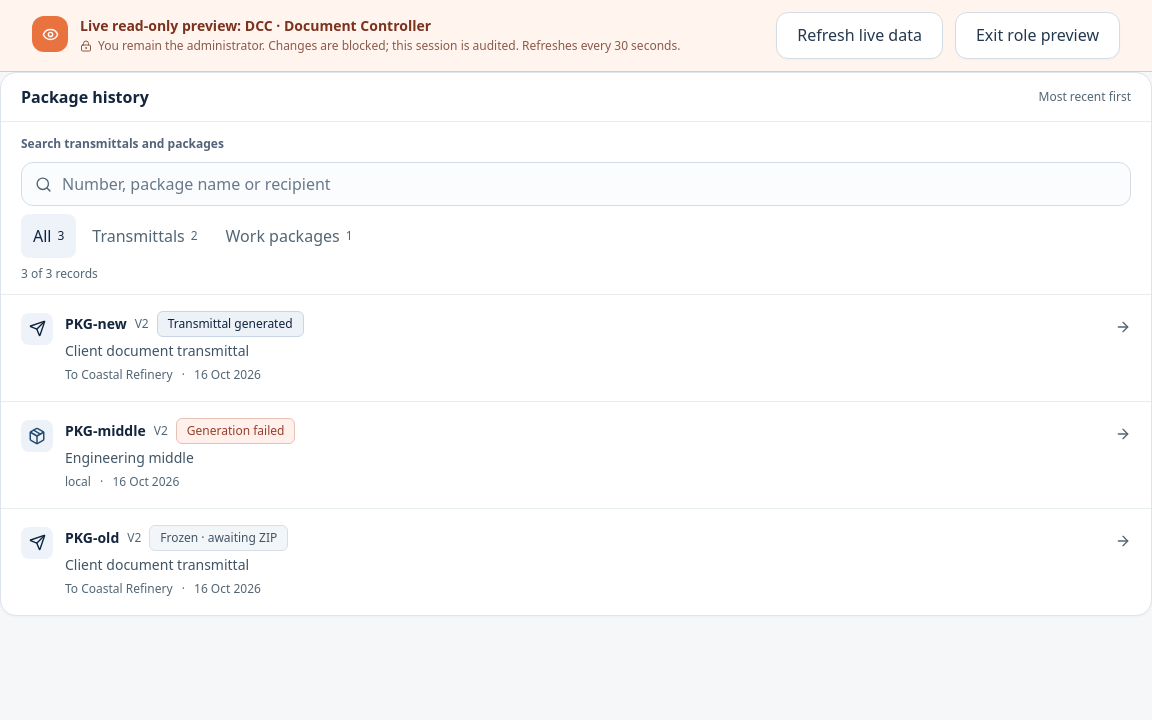
Test case: keeps read-only search and categories usable in audited preview
The image size is (1152, 720).
Expected: the search field is enabled, [21,162,1131,206]
Click the button "Work packages 1" at (289, 236), box [214,214,365,258]
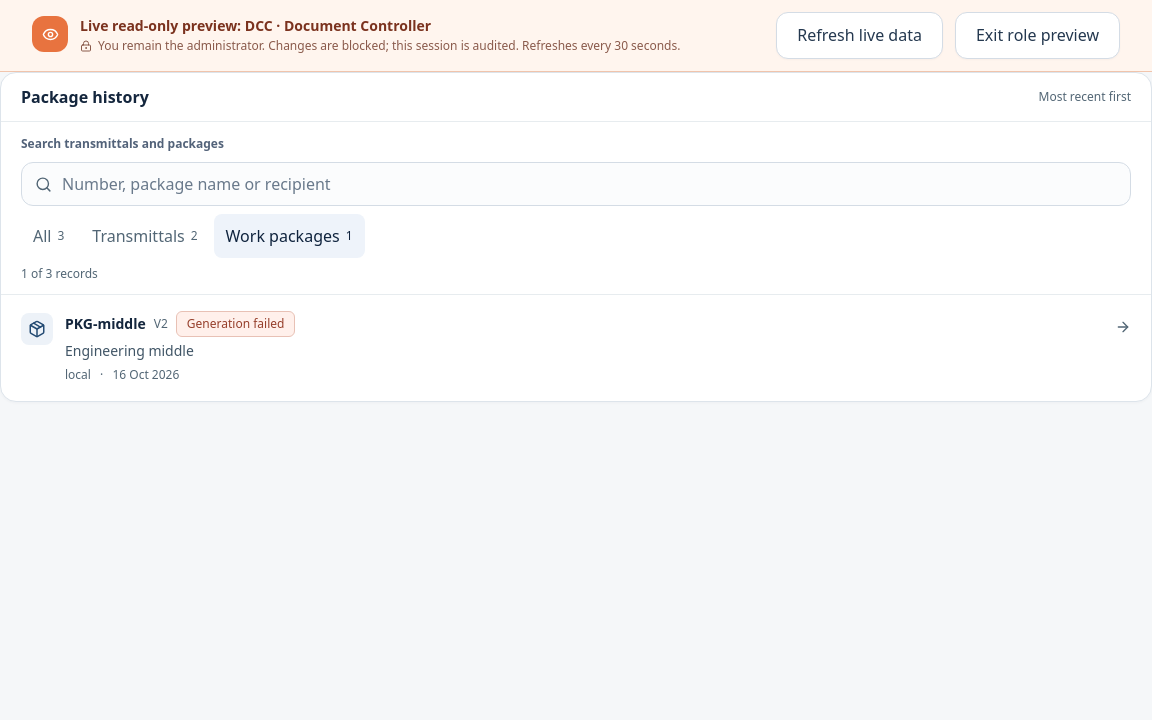
Result: the number of links is 1 at [1,295,1151,401]
